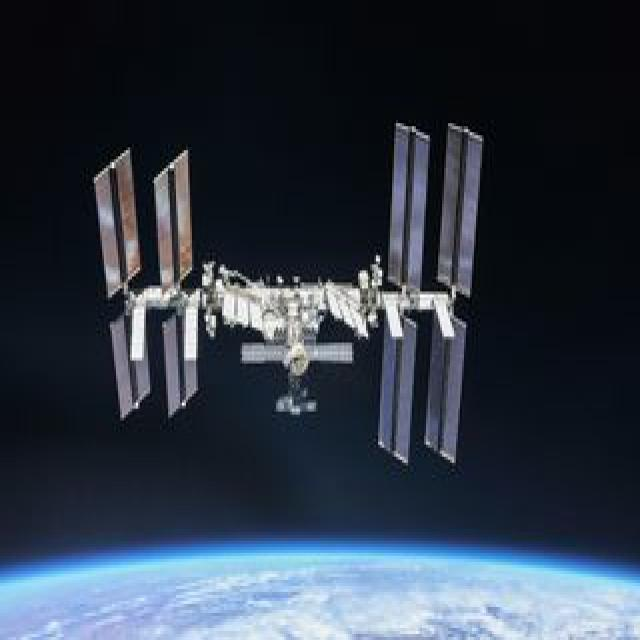medium_debris: (83, 94, 487, 484)
